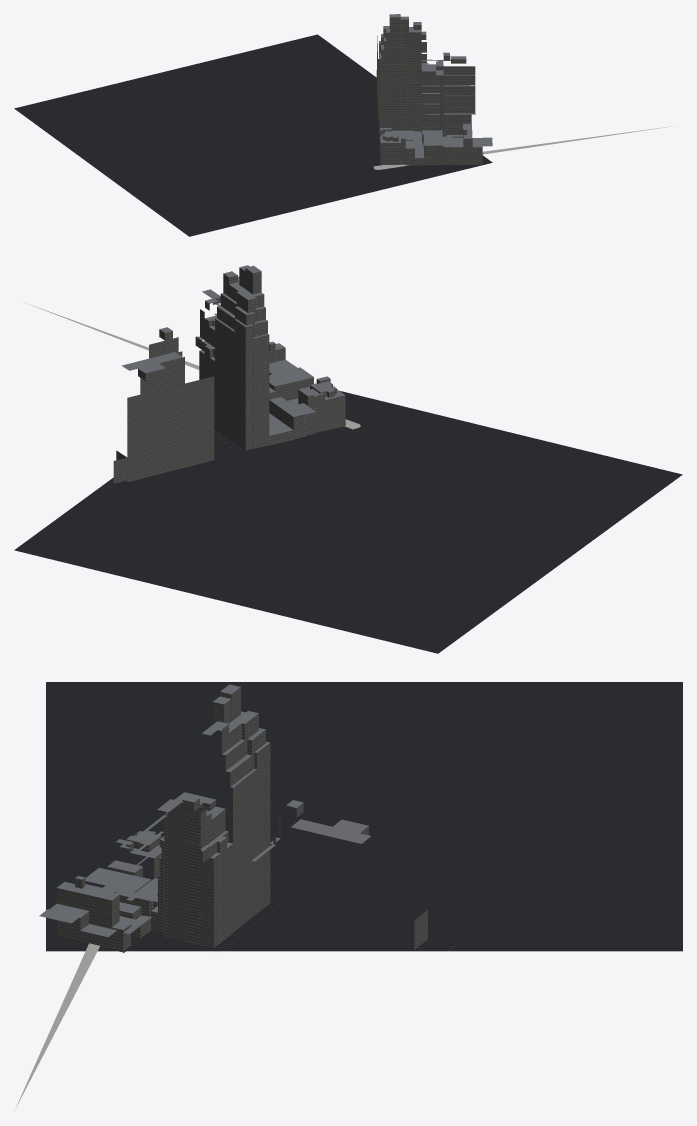
3 renders of one model, top to bottom at view 1: azimuth 30°, elevation 25°; view 2: azimuth 150°, elevation 25°; view 3: azimuth 270°, elevation 25°, orthographic. The views are drawn at different scales.
Parts seen in each view (by area): view 1: t0_7, detail; view 2: t0_7; view 3: t0_7, detail.
Part boxes in pixels (x1=…): t0_7: x1=14, y1=14, x2=492, y2=236; detail: x1=373, y1=125, x2=676, y2=169; t0_7: x1=14, y1=265, x2=682, y2=653; t0_7: x1=39, y1=682, x2=682, y2=953; detail: x1=14, y1=943, x2=99, y2=1110.
Size of the model in its own units: 399 by 97.35 by 263.
4 materials, 2 textured.
